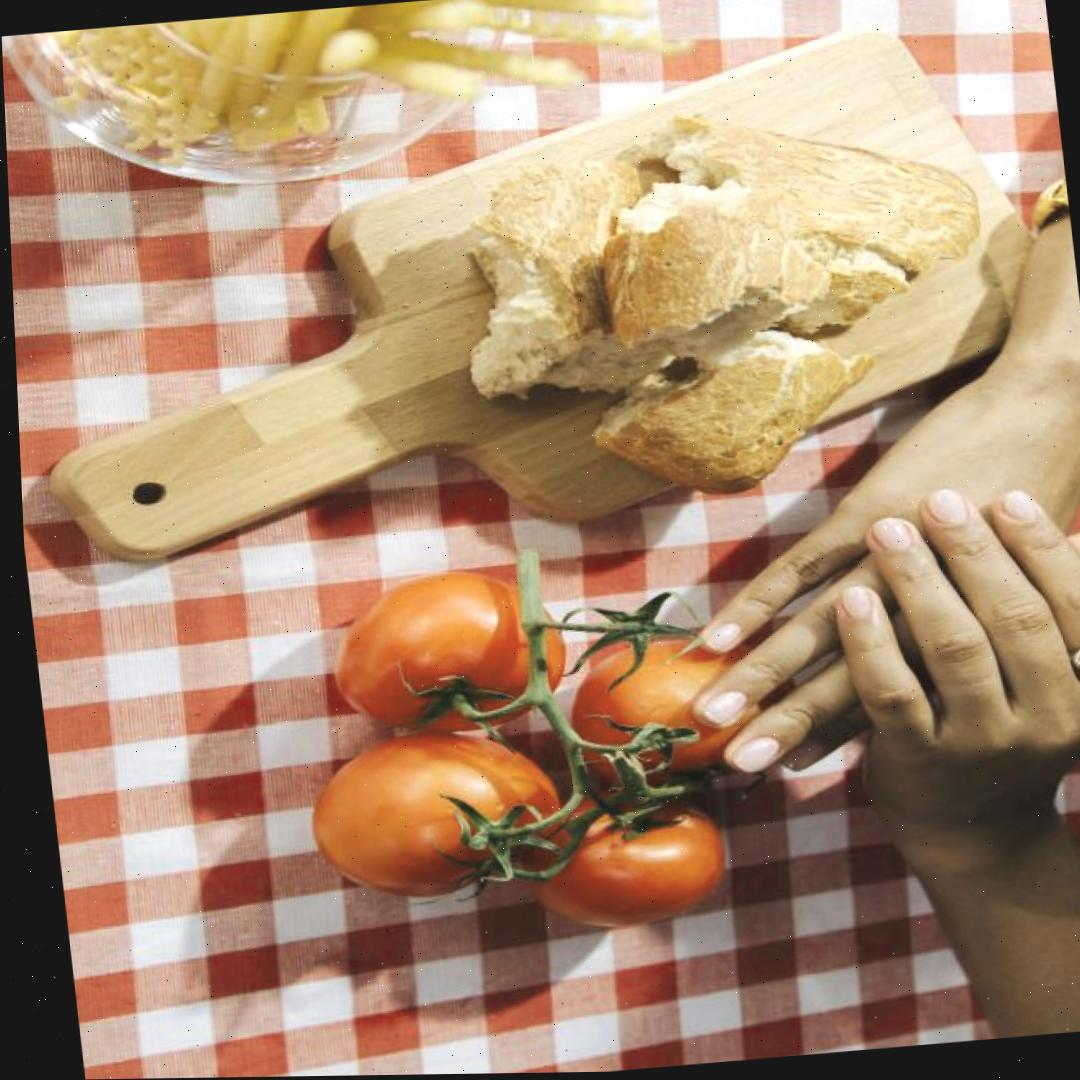matang: (300, 720, 569, 907), (319, 556, 573, 744), (565, 632, 787, 802), (501, 775, 730, 936)
